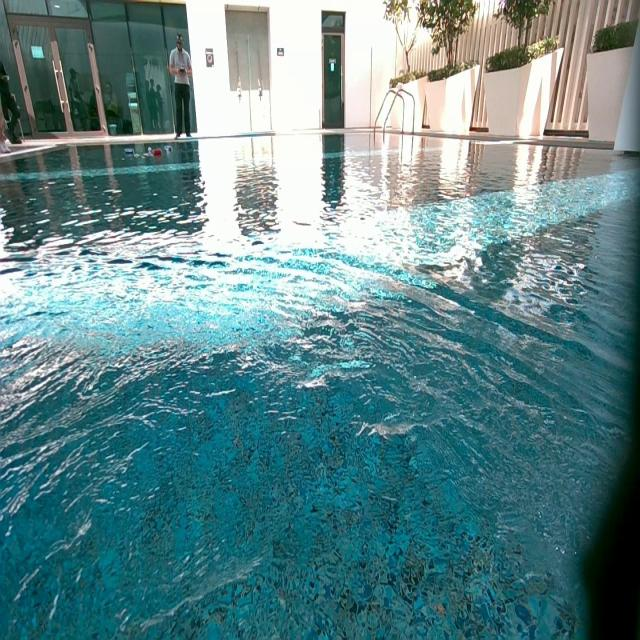Cans: (152, 147, 162, 157), (125, 147, 135, 156), (166, 146, 174, 154), (148, 146, 153, 155)
